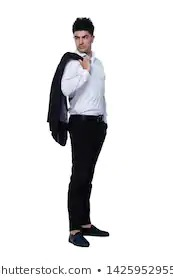F_dress pants: (63, 112, 110, 231)
